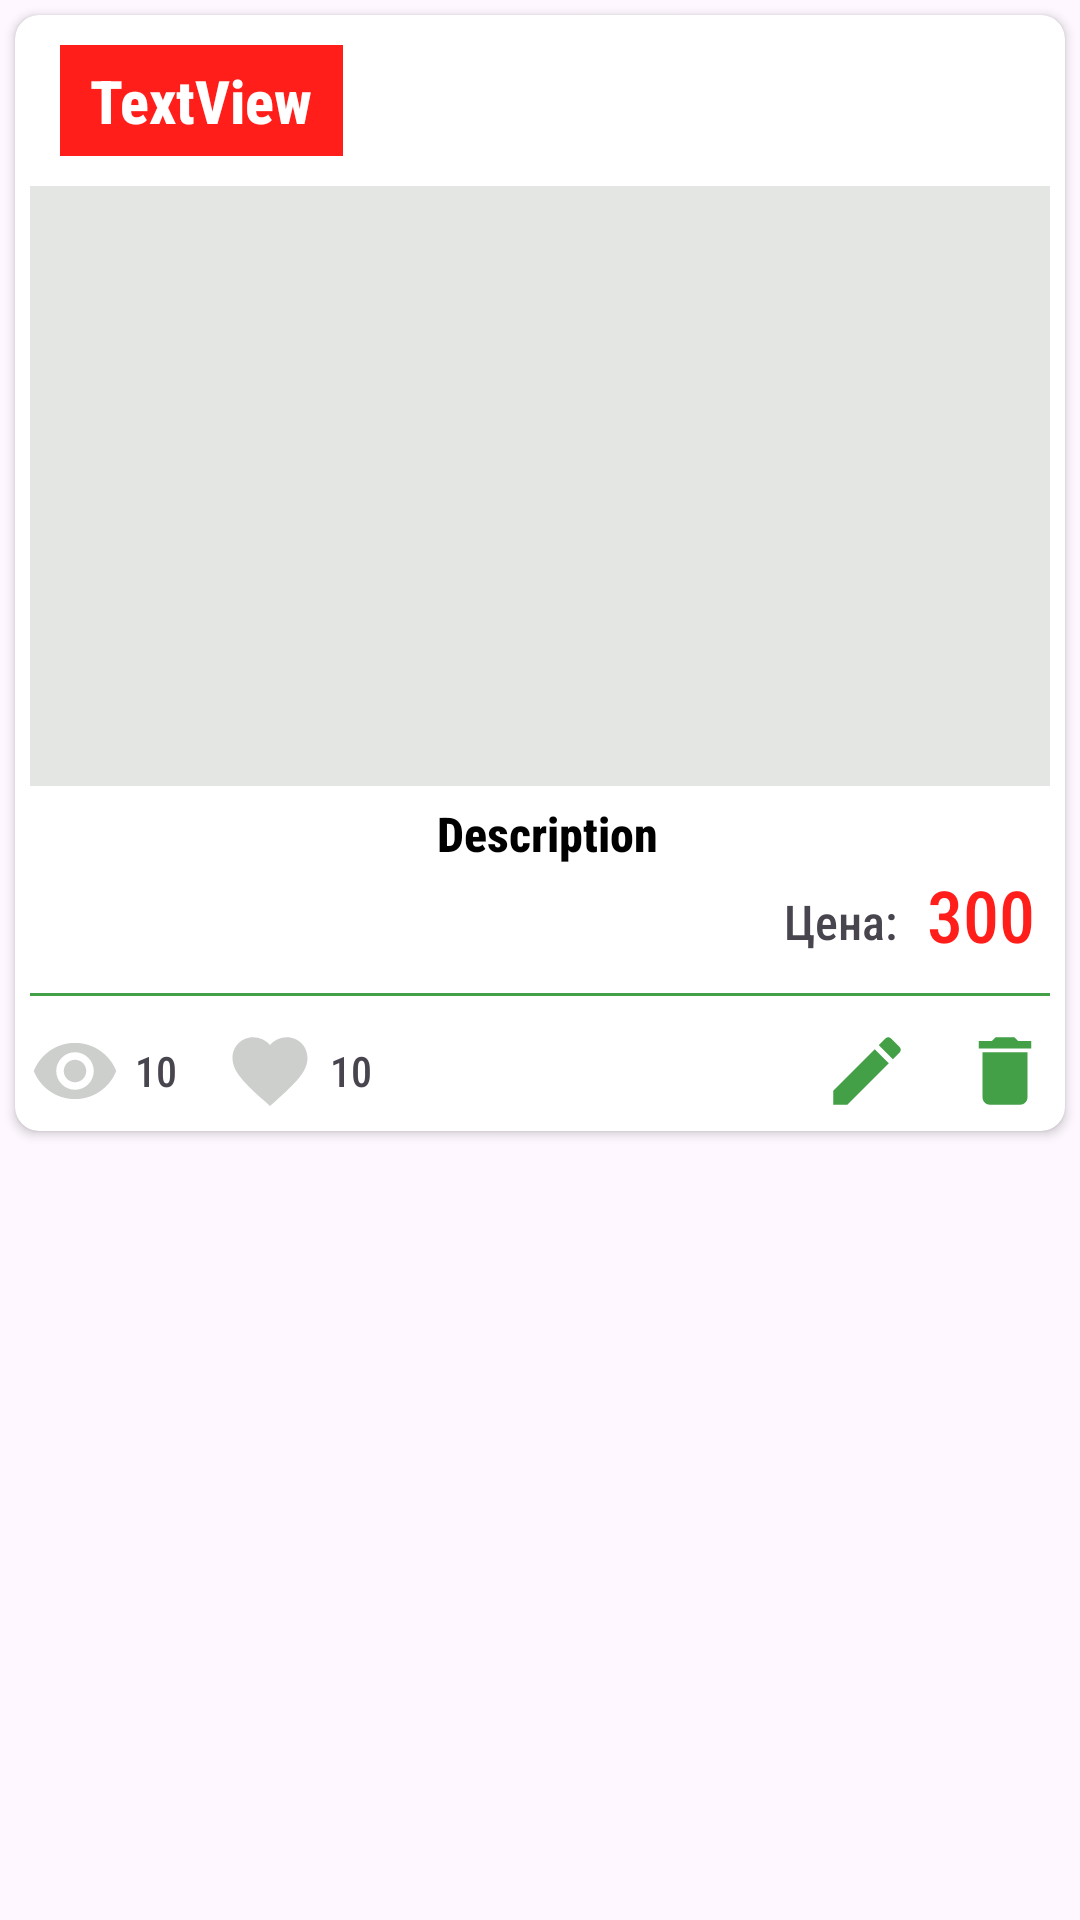

Screen size 1080 × 1920. Icon name, then its box in pixels as (x1, y1, x2, y2):
delete: (978, 1037, 1032, 1105)
edit: (833, 1037, 901, 1105)
eye: (34, 1043, 116, 1099)
favorite: (232, 1037, 307, 1106)
